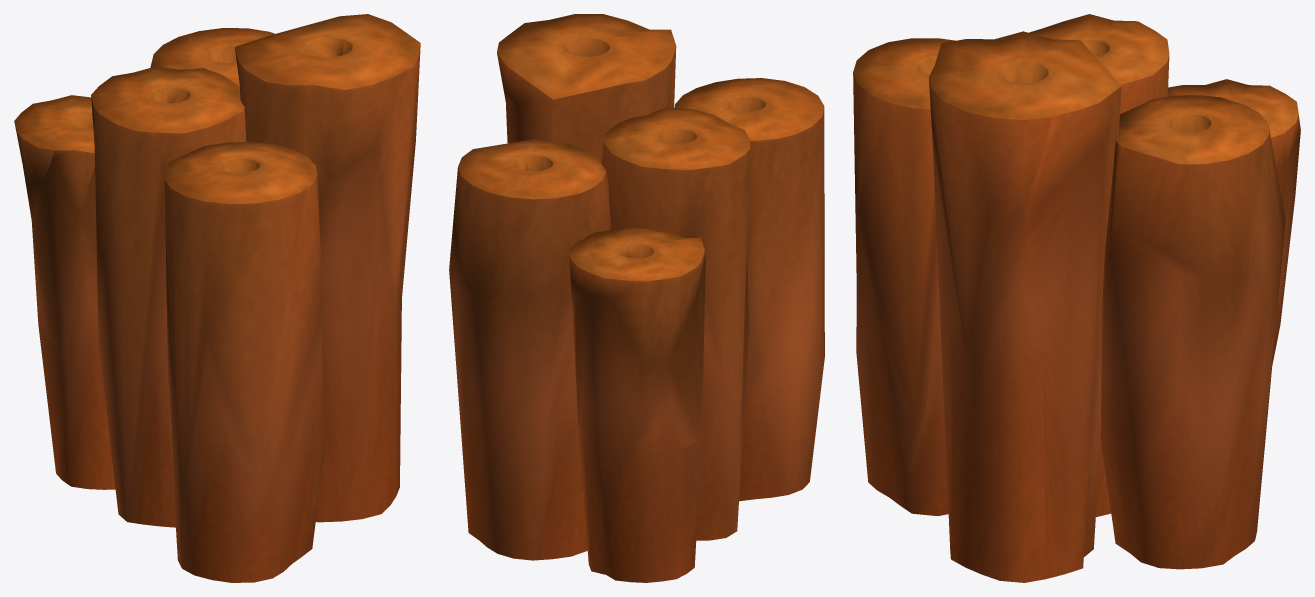
File: seaGrassCylinderDorangev1.fbx
3 renders of one model, left to right at view 1: azimuth 30°, elevation 25°; view 2: azimuth 150°, elevation 25°; view 3: azimuth 270°, elevation 25°, orthographic. The views are drawn at different scales.
Parts seen in each view (by area): view 1: seaGrassCylinderDorangev1Object; view 2: seaGrassCylinderDorangev1Object; view 3: seaGrassCylinderDorangev1Object.
Boxes of the visible parts, bbox=[...] form: seaGrassCylinderDorangev1Object: bbox=[14, 14, 420, 582]; seaGrassCylinderDorangev1Object: bbox=[449, 14, 824, 582]; seaGrassCylinderDorangev1Object: bbox=[853, 14, 1300, 582].
Bounding box in the file's own units: 0.0809 × 0.1194 × 0.101.
Materials: 1 (1 with a texture image).
